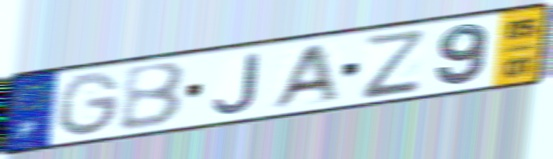9: (432, 20, 492, 89)
A: (265, 40, 342, 113)
B: (117, 59, 189, 134)
G: (57, 70, 124, 139)
J: (210, 50, 262, 116)
Z: (359, 27, 424, 102)
